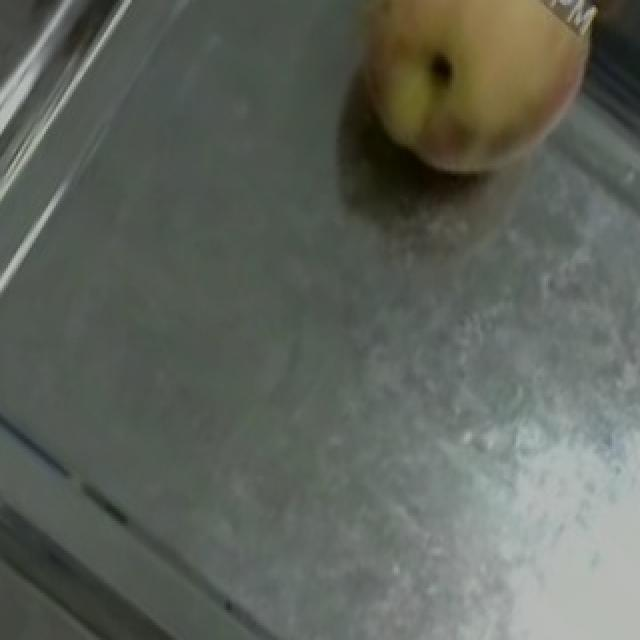Fruit: (302, 0, 620, 218)
